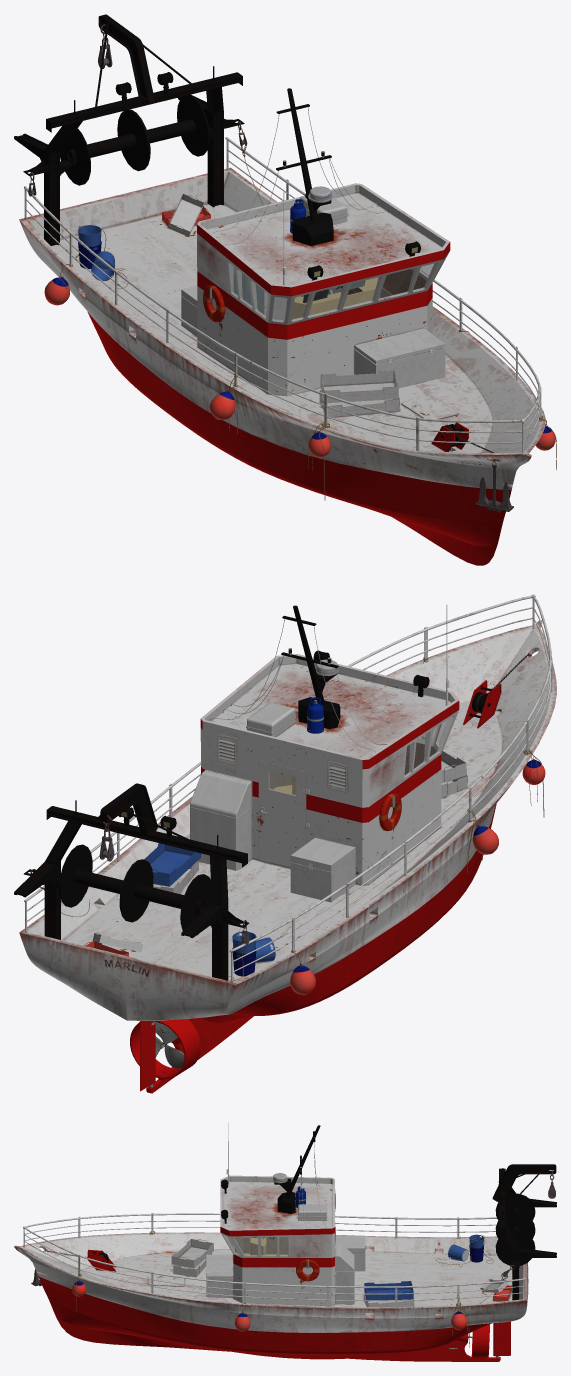
File: trawler__1_.c6e1b468d23e.glb
3 views of the same model, one above another, from view 1: azimuth 30°, elevation 25°; view 2: azimuth 150°, elevation 25°; view 3: azimuth 270°, elevation 25° (orthographic). The views are drawn at different scales.
Visible parts, largest first — view 1: hull.002, cabin.002, grue main.002, roof.002, bastingage.002, glass, caisse3.002, caisse5.002, mat.002, bouees side.002, bucket2.002, Solid 661.002 (+5 smaller); view 2: hull.002, cabin.002, grue main.002, roof.002, bastingage.002, rangement.002, door.002, caisse.007, Solid 585.002, mat.002, caisse.006, bouees side.002 (+10 smaller); view 3: hull.002, cabin.002, bastingage.002, grue main.002, roof.002, Solid 585.002, caisse3.002, caisse.006, caisse5.002, rangement.002, mat.002, glass (+9 smaller).
Part boxes in pixels (box(x1,y1,x2,y2)): hull.002: box(19, 167, 545, 565); cabin.002: box(197, 183, 450, 396); grue main.002: box(14, 14, 244, 245); roof.002: box(207, 193, 442, 285); bastingage.002: box(24, 137, 541, 452); glass: box(229, 256, 446, 322); caisse3.002: box(354, 328, 445, 388); caisse5.002: box(319, 370, 400, 418); mat.002: box(276, 88, 333, 246); bouees side.002: box(44, 276, 555, 457); bucket2.002: box(78, 225, 114, 280); Solid 661.002: box(286, 277, 380, 319); hull.002: box(19, 620, 556, 1023); cabin.002: box(200, 654, 459, 885); grue main.002: box(14, 783, 249, 980); roof.002: box(211, 663, 450, 758); bastingage.002: box(24, 594, 552, 983); rangement.002: box(190, 769, 252, 870); door.002: box(258, 760, 306, 868); caisse.007: box(290, 837, 355, 902); Solid 585.002: box(130, 1016, 253, 1093); mat.002: box(281, 605, 340, 729); caisse.006: box(144, 843, 200, 893); bouees side.002: box(61, 759, 545, 995); hull.002: box(14, 1232, 528, 1359); cabin.002: box(220, 1175, 335, 1306); bastingage.002: box(23, 1213, 526, 1307); grue main.002: box(492, 1164, 556, 1300); roof.002: box(222, 1181, 332, 1229); Solid 585.002: box(350, 1324, 500, 1361); caisse3.002: box(206, 1254, 233, 1297); caisse.006: box(363, 1281, 414, 1307); caisse5.002: box(171, 1239, 213, 1277); rangement.002: box(335, 1242, 354, 1304); mat.002: box(272, 1125, 320, 1213); glass: box(223, 1235, 288, 1255).
Bounding box in the file's own units: 2.09 × 2.71 × 5.67.
Materials: 12 (12 with a texture image).
